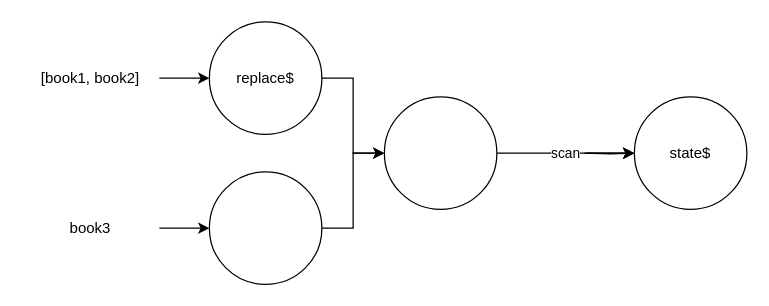
The diagram is 769 pixels wide and 306 high, and some of its shapes have lost their labels. The box of each missing label's shape, as (x1, y1, x2, y2) in pixels:
add$: (208, 171, 322, 284)
update$: (383, 96, 497, 209)
